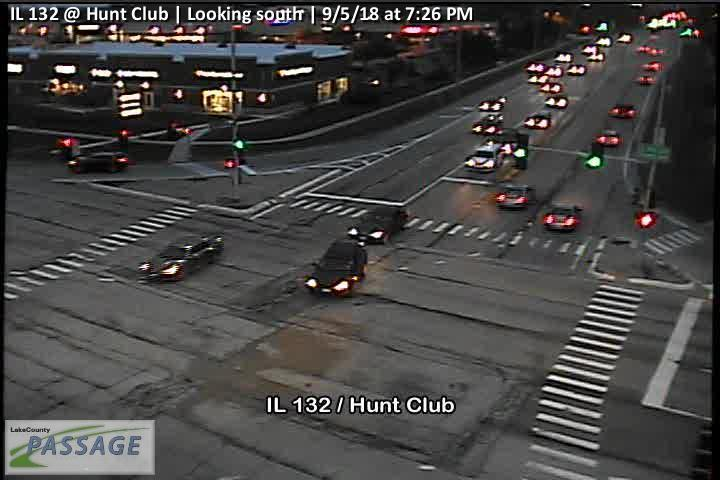SUV: (305, 239, 367, 296), (67, 152, 129, 170), (463, 145, 501, 174)
Sedan: (136, 231, 224, 281), (348, 206, 408, 245), (544, 203, 583, 232), (496, 184, 530, 210), (472, 118, 501, 135), (525, 113, 551, 130), (596, 129, 619, 147), (609, 104, 636, 118), (545, 96, 568, 108), (541, 82, 562, 93), (568, 64, 587, 76), (555, 52, 574, 63), (529, 74, 548, 84), (527, 62, 545, 72), (546, 66, 563, 76), (644, 62, 662, 70), (583, 44, 598, 53), (597, 36, 610, 46), (588, 53, 604, 61), (617, 34, 631, 43), (638, 75, 653, 83), (650, 48, 663, 56), (637, 44, 649, 51)
